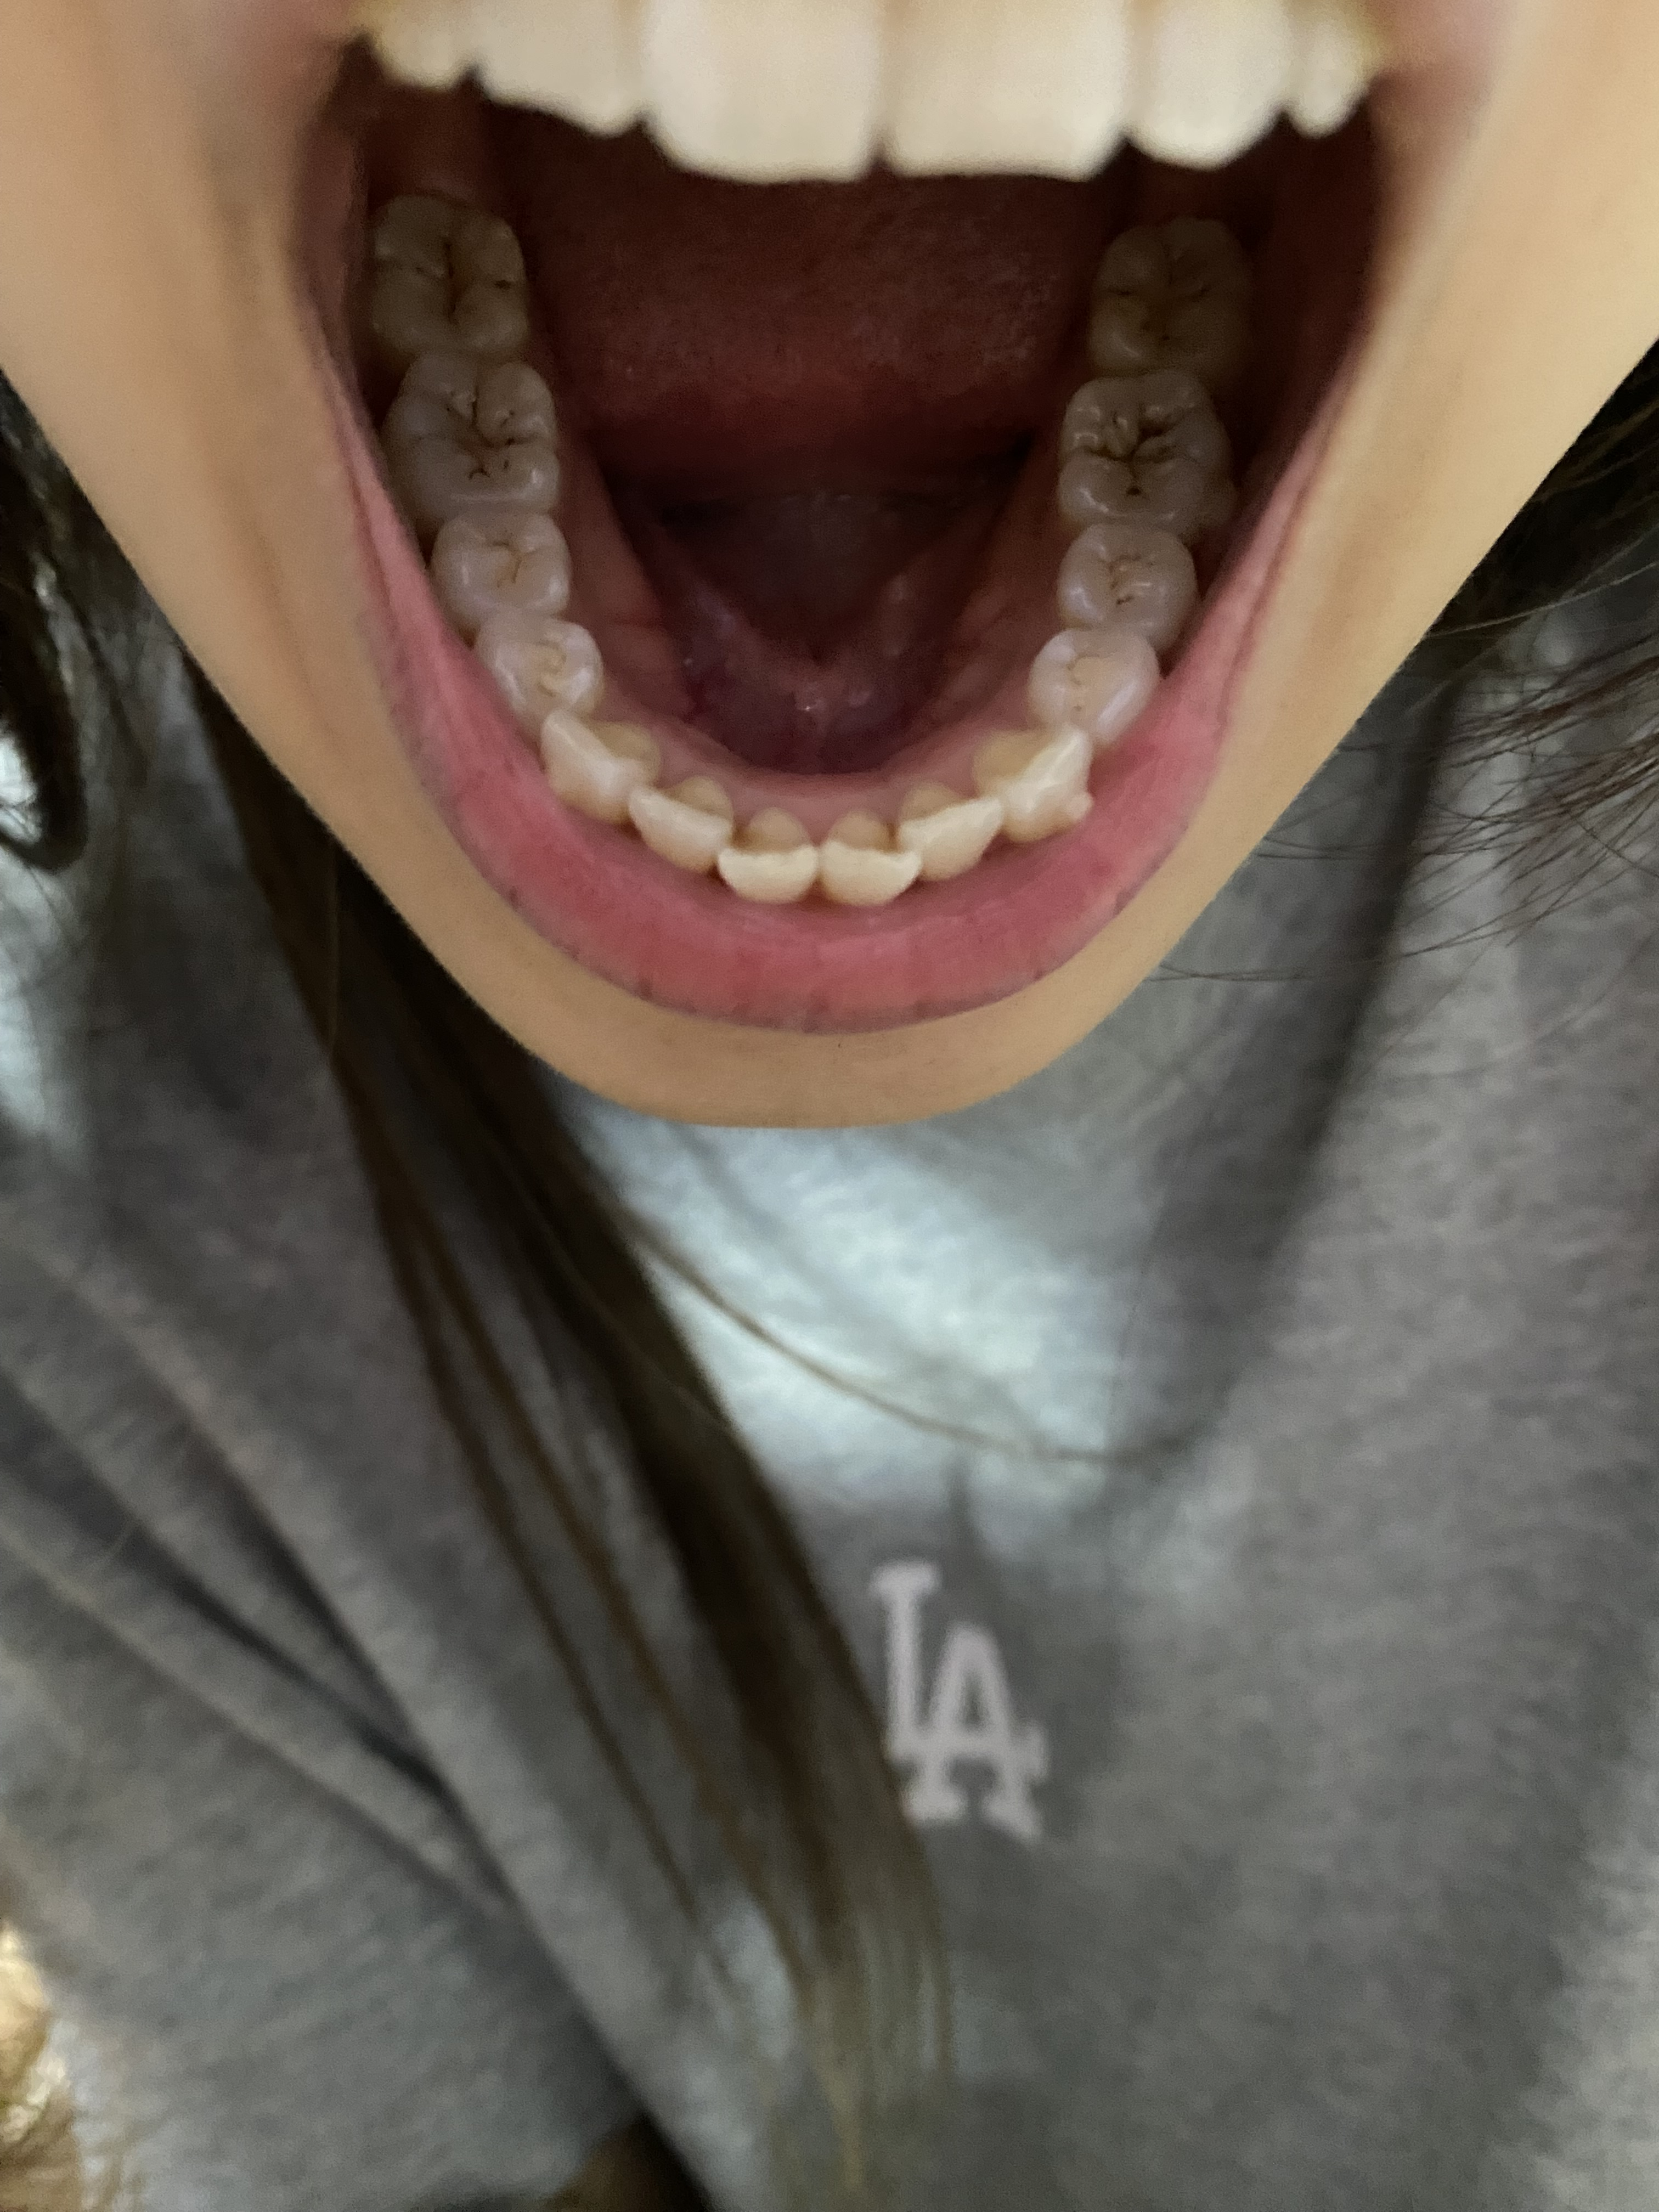teeth: (662, 0, 897, 171), (894, 5, 1129, 171), (1138, 14, 1297, 158), (399, 347, 544, 502), (1072, 371, 1230, 510), (477, 9, 638, 122), (981, 725, 1091, 845), (1033, 622, 1155, 726), (1082, 521, 1185, 639), (450, 510, 561, 611), (542, 716, 652, 813), (718, 799, 817, 904), (819, 805, 910, 906), (906, 791, 1007, 878), (638, 770, 730, 862), (491, 620, 587, 698)
